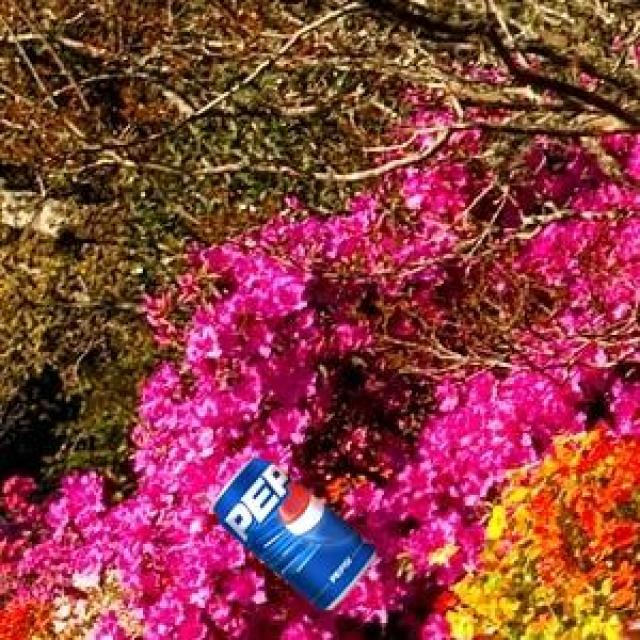Can: (210, 455, 372, 607)
